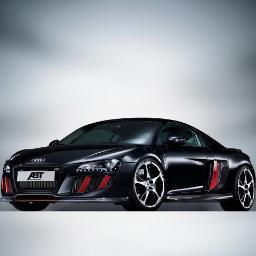car: (1, 115, 255, 216)
